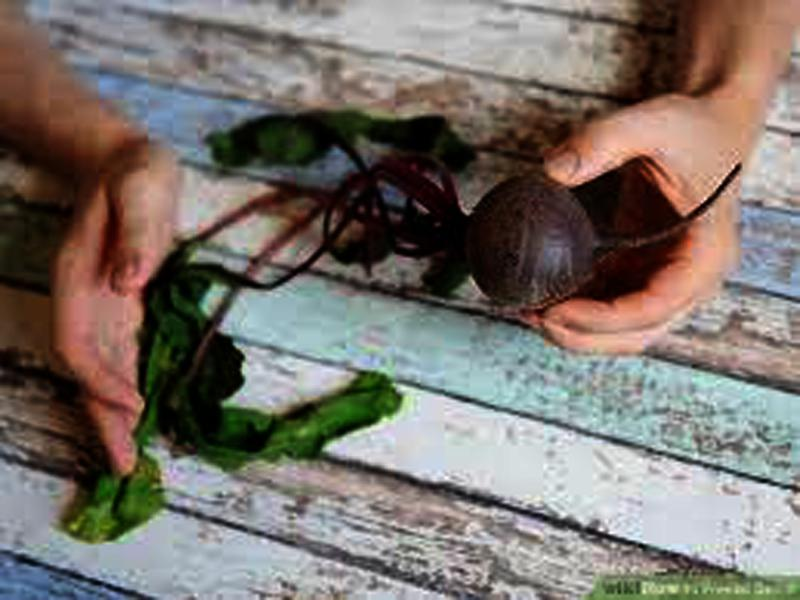Beet: (65, 114, 741, 541)
